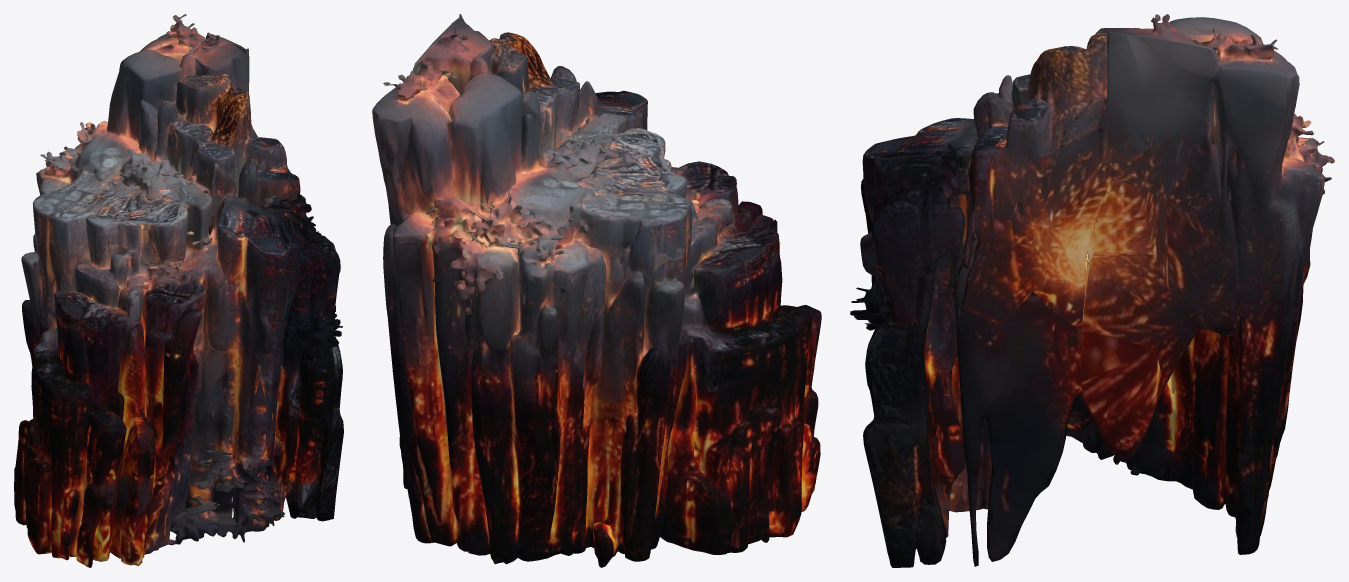
File: fire_cliff.glb
3 views of the same model, side by side, from view 1: azimuth 30°, elevation 25°; view 2: azimuth 150°, elevation 25°; view 3: azimuth 270°, elevation 25° (orthographic). The views are drawn at different scales.
Visible parts, largest first — view 1: tripo_node_df0f3bb3-c8df-445e-9ba2-3a142b7c30b4; view 2: tripo_node_df0f3bb3-c8df-445e-9ba2-3a142b7c30b4; view 3: tripo_node_df0f3bb3-c8df-445e-9ba2-3a142b7c30b4.
Part boxes in pixels (x1=…): tripo_node_df0f3bb3-c8df-445e-9ba2-3a142b7c30b4: x1=14, y1=14, x2=343, y2=567; tripo_node_df0f3bb3-c8df-445e-9ba2-3a142b7c30b4: x1=372, y1=14, x2=821, y2=567; tripo_node_df0f3bb3-c8df-445e-9ba2-3a142b7c30b4: x1=850, y1=14, x2=1334, y2=567.
Size of the model in its own units: 0.648 by 1 by 0.7958.
Materials: 1 (1 with a texture image).
